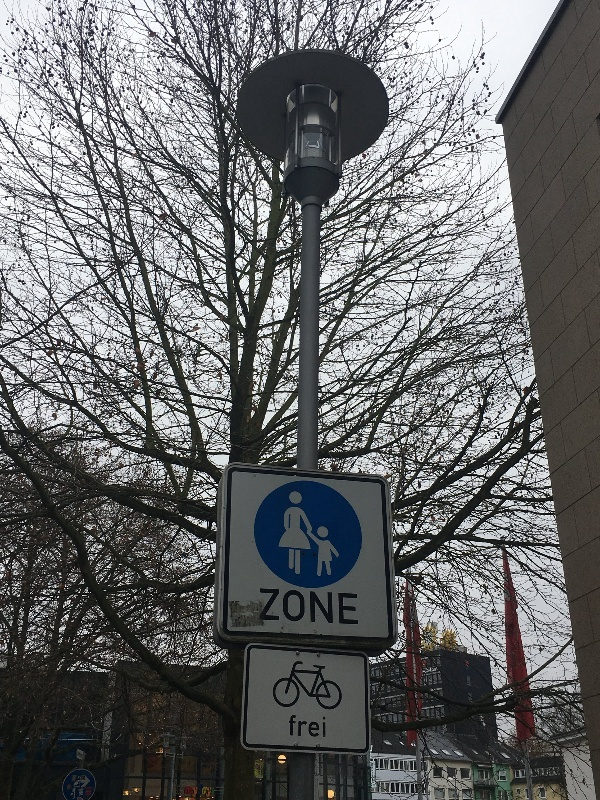text: (465, 661, 480, 703), (273, 589, 288, 624), (289, 589, 304, 624), (305, 589, 320, 624), (321, 589, 336, 624), (337, 589, 352, 624), (261, 589, 272, 624), (289, 715, 304, 737), (305, 715, 320, 737), (193, 785, 208, 800), (353, 589, 358, 624), (321, 715, 326, 737), (185, 785, 192, 800), (209, 785, 216, 800)
